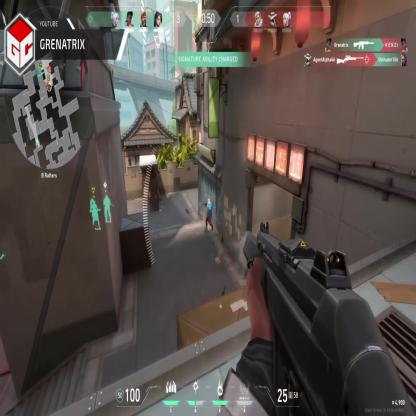enemy: (205, 199, 213, 234)
enemy_head: (207, 199, 211, 204)
